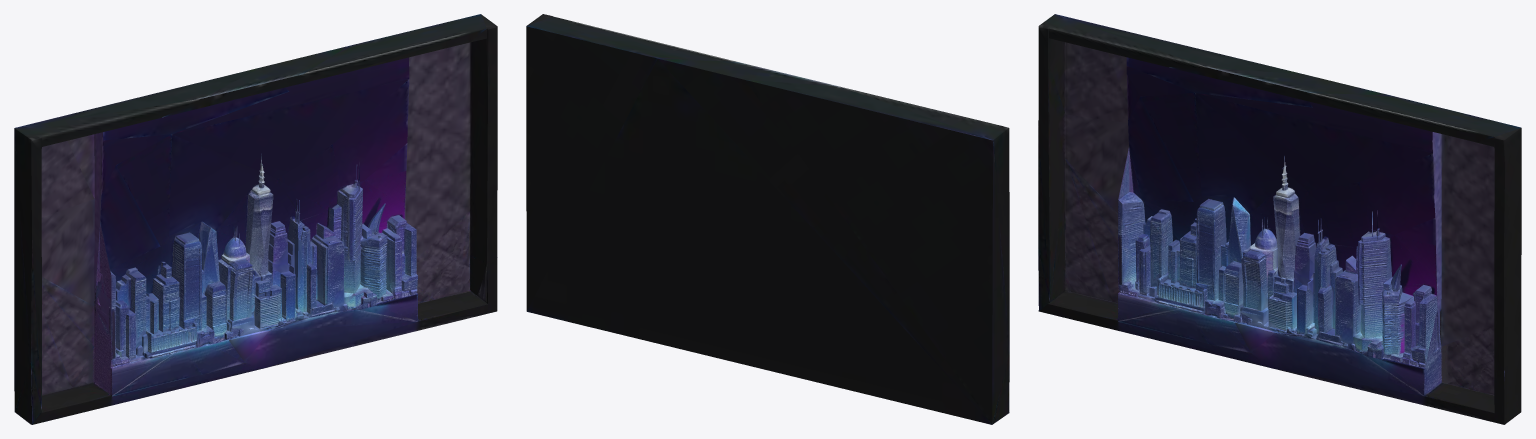
Rendered from poster.glb.
3 views of the same model, side by side, from view 1: azimuth 30°, elevation 25°; view 2: azimuth 150°, elevation 25°; view 3: azimuth 330°, elevation 25° (orthographic).
Bounding box in the file's own units: 1.9 × 1.11 × 0.1345.
Materials: 1 (1 with a texture image).
